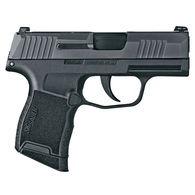gun: (4, 24, 191, 174)
